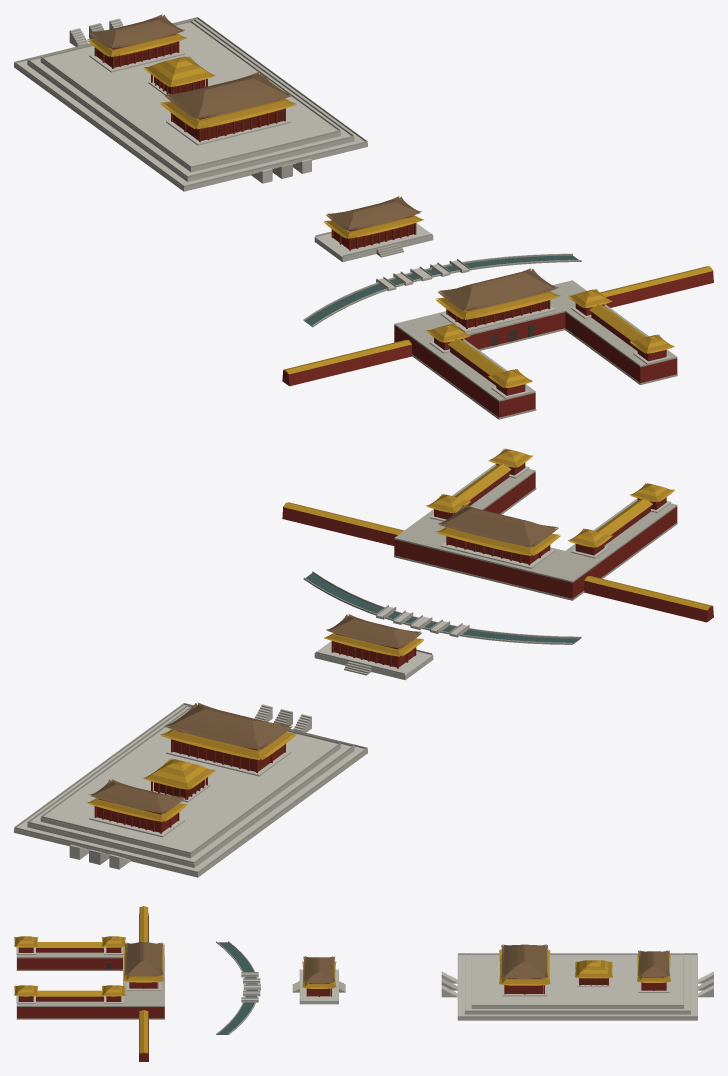
Rendered from forbidden-city-b90.glb.
3 views of the same model, one above another, from view 1: azimuth 30°, elevation 25°; view 2: azimuth 150°, elevation 25°; view 3: azimuth 270°, elevation 25° (orthographic). The views are drawn at different scales.
Visible parts, largest first — view 1: forbidden-city-b90; view 2: forbidden-city-b90; view 3: forbidden-city-b90.
Part boxes in pixels (<box>): forbidden-city-b90: <box>14,14,713,419</box>; forbidden-city-b90: <box>14,448,713,877</box>; forbidden-city-b90: <box>14,906,713,1061</box>.
Size of the model in its own units: 300 by 35.99 by 607.
